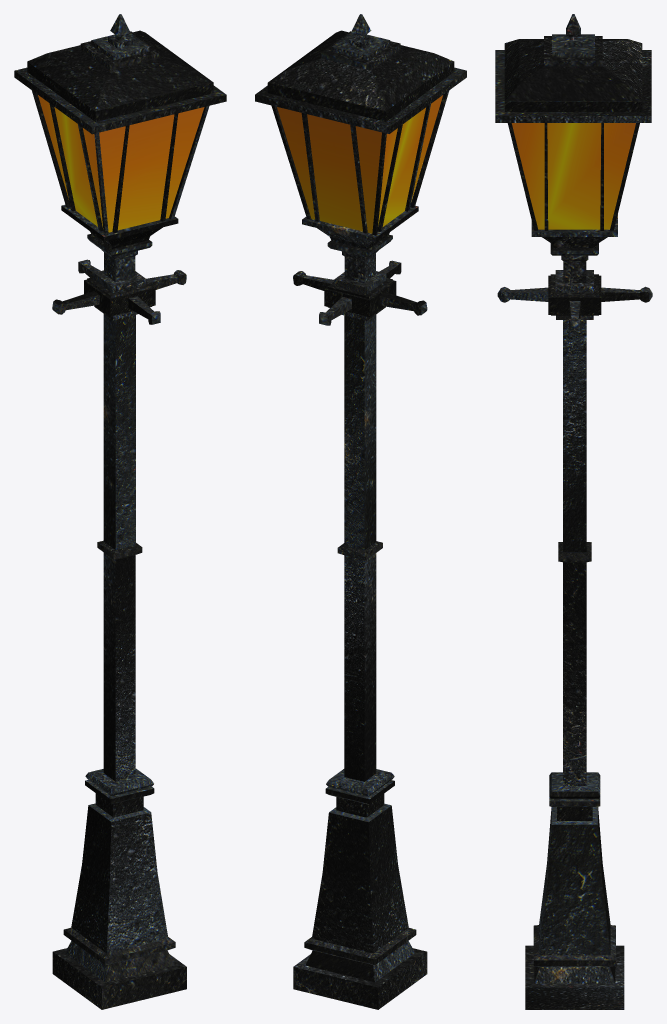
Rendered from textured lamp 4.fbx.
The picture shows the model from 3 angles, left to right: view 1: azimuth 30°, elevation 25°; view 2: azimuth 150°, elevation 25°; view 3: azimuth 270°, elevation 25°; orthographic projection.
Visible parts, largest first — view 1: Plane.003, Plane.007; view 2: Plane.003, Plane.007; view 3: Plane.003, Plane.007.
Boxes of the visible parts, <box> form: Plane.003: <box>14,14,226,1009</box>; Plane.007: <box>38,95,204,232</box>; Plane.003: <box>255,14,466,1009</box>; Plane.007: <box>277,95,442,233</box>; Plane.003: <box>495,14,652,1009</box>; Plane.007: <box>511,123,635,229</box>.
Bounding box in the file's own units: 65.45 × 450 × 65.89.
2 materials, 2 textured.
